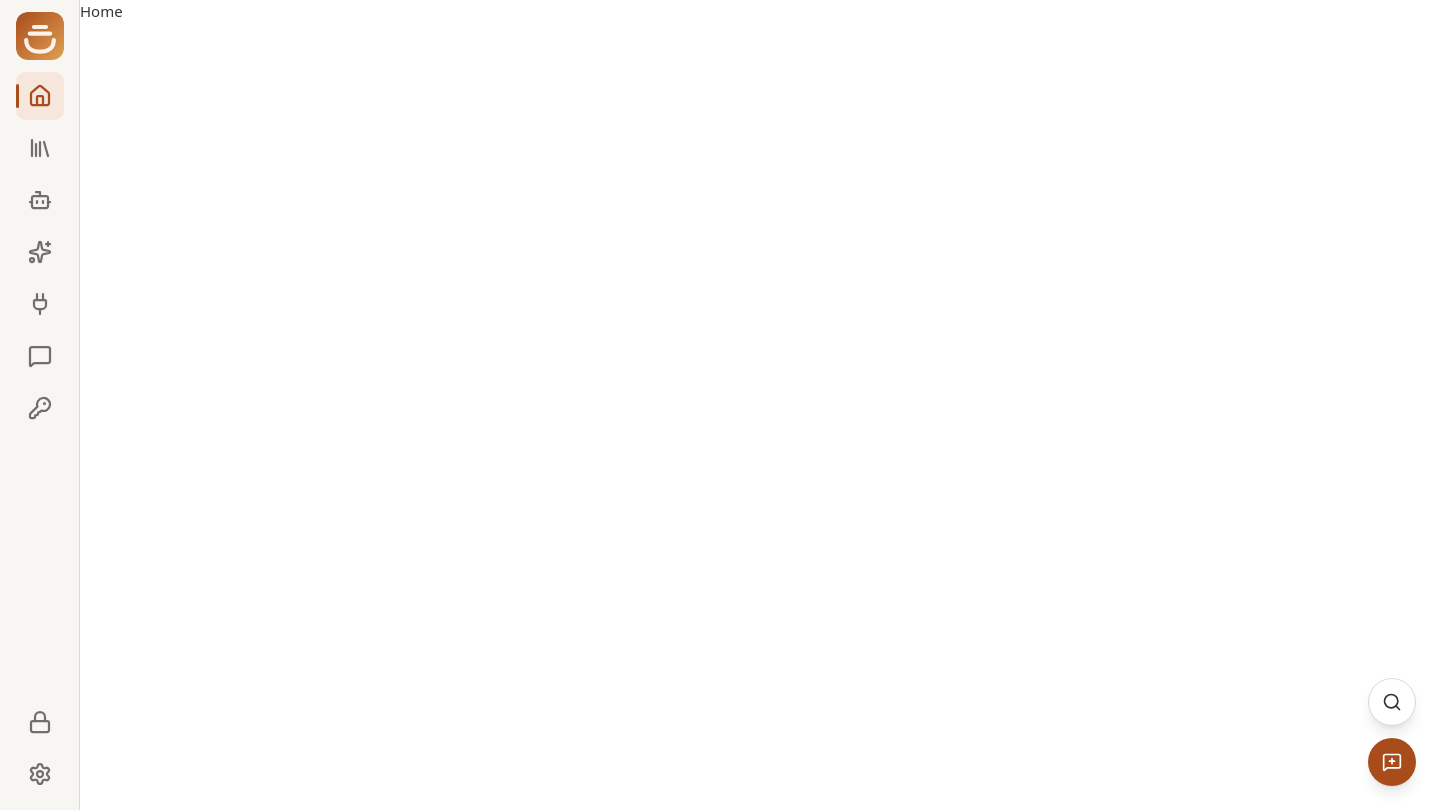
selecting an agent result navigates to /agents/:id
Expected: the heading "Home" is shown, x1=80 y1=1 x2=123 y2=21
Press k
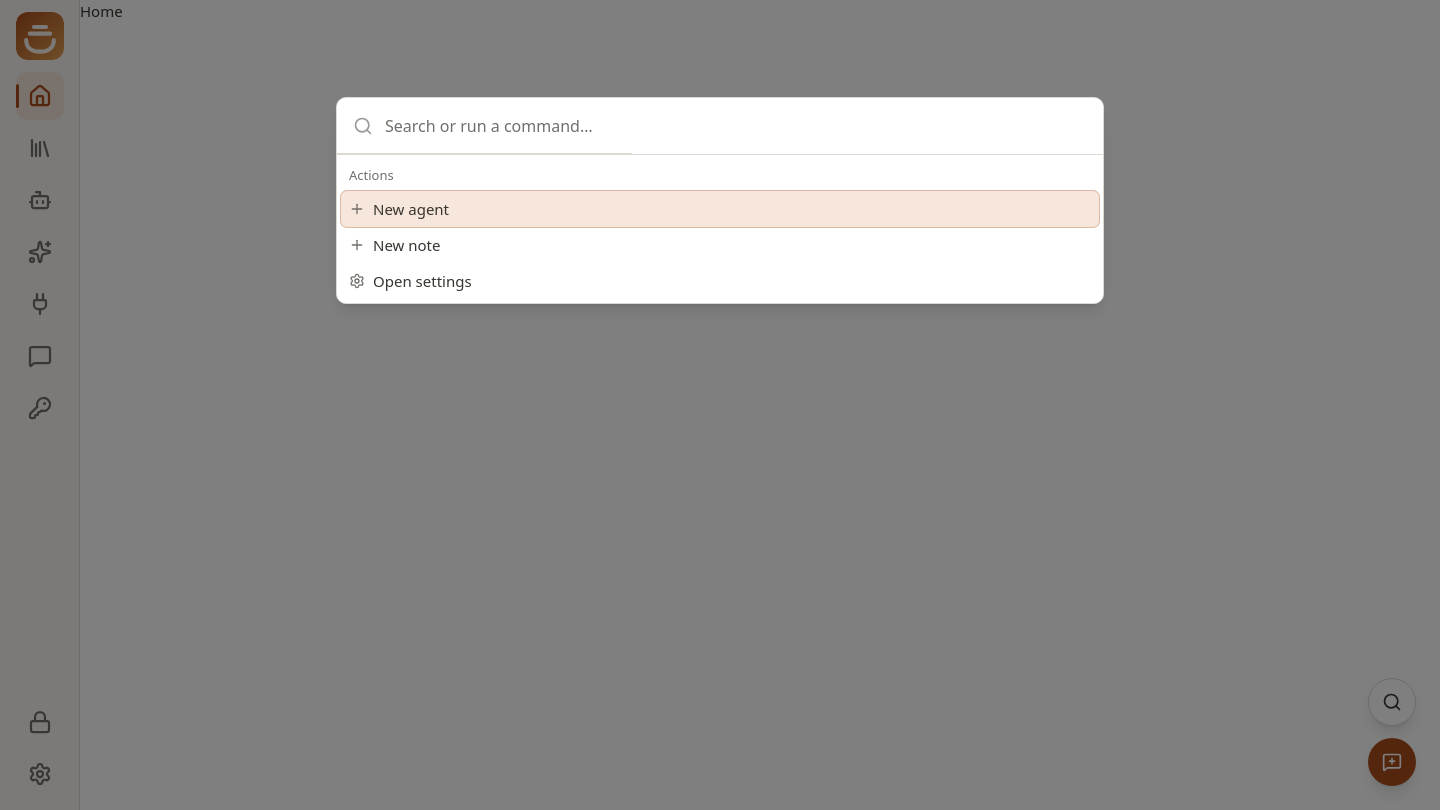
Type "digest" into the dropdown with placeholder "Search or run a command…".
click(500, 126); type("digest")  # box x1=385 y1=102 x2=616 y2=150
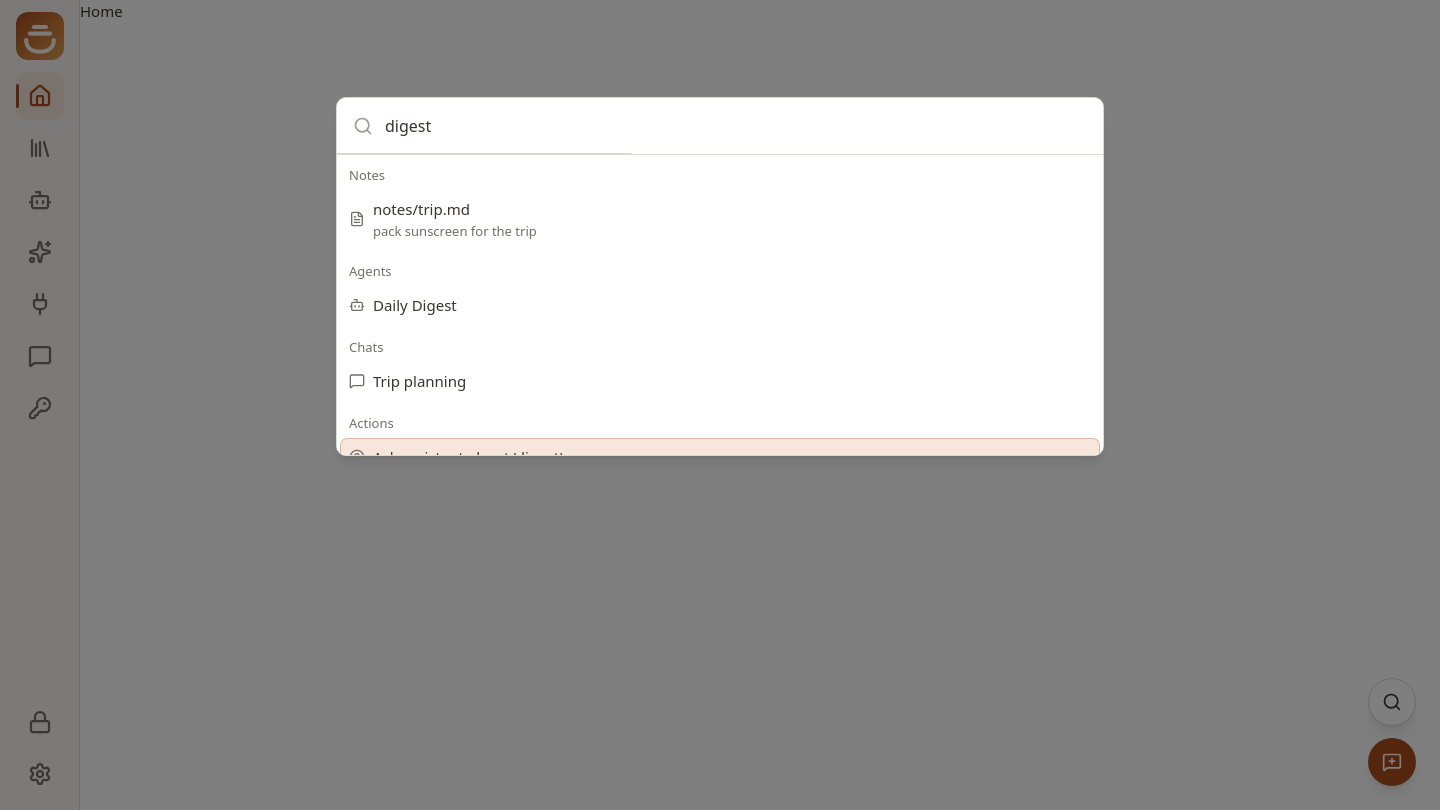
Click the option "Daily Digest".
click(403, 305)  # box x1=349 y1=295 x2=457 y2=315
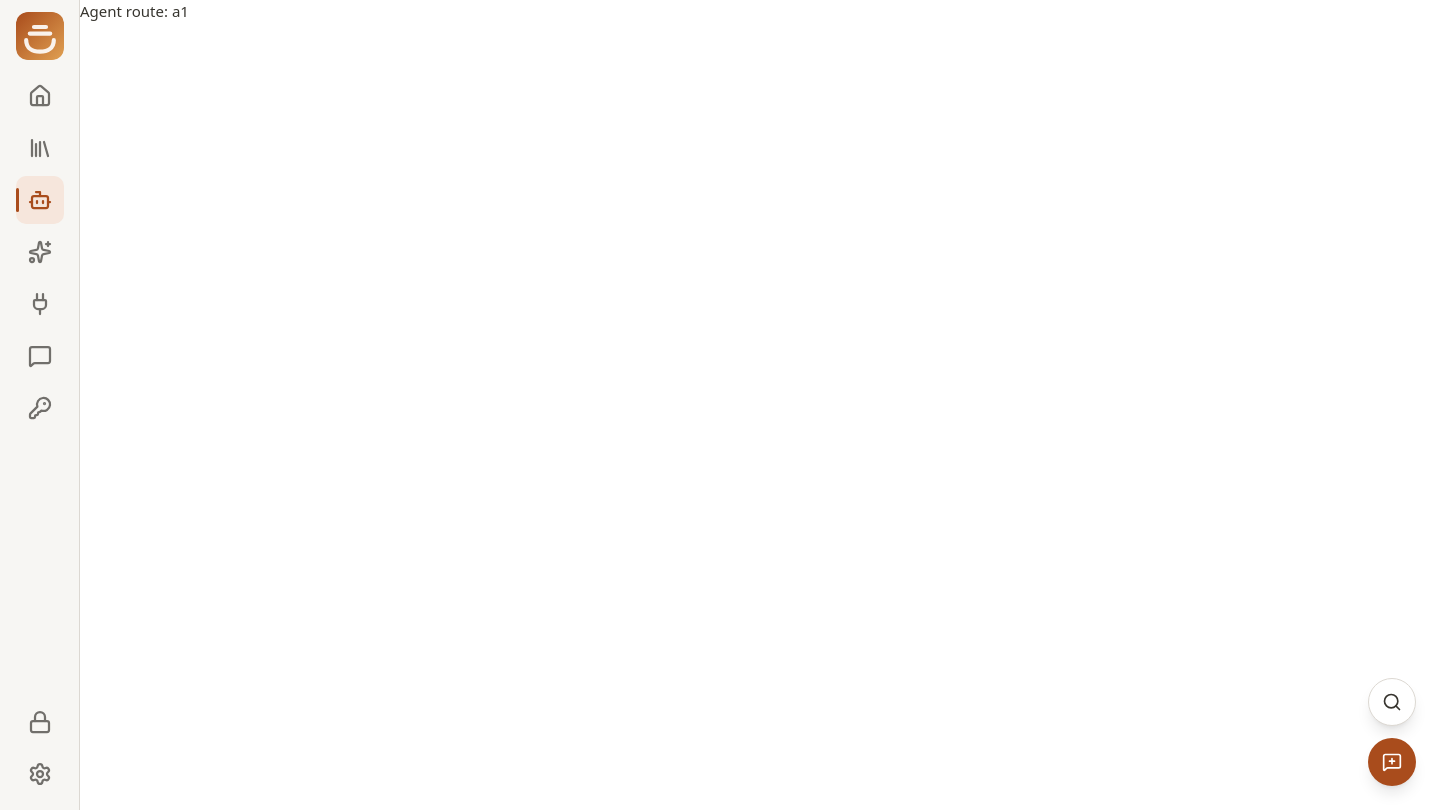
Now the text "Agent route: a1" is shown, box x1=80 y1=1 x2=189 y2=21
